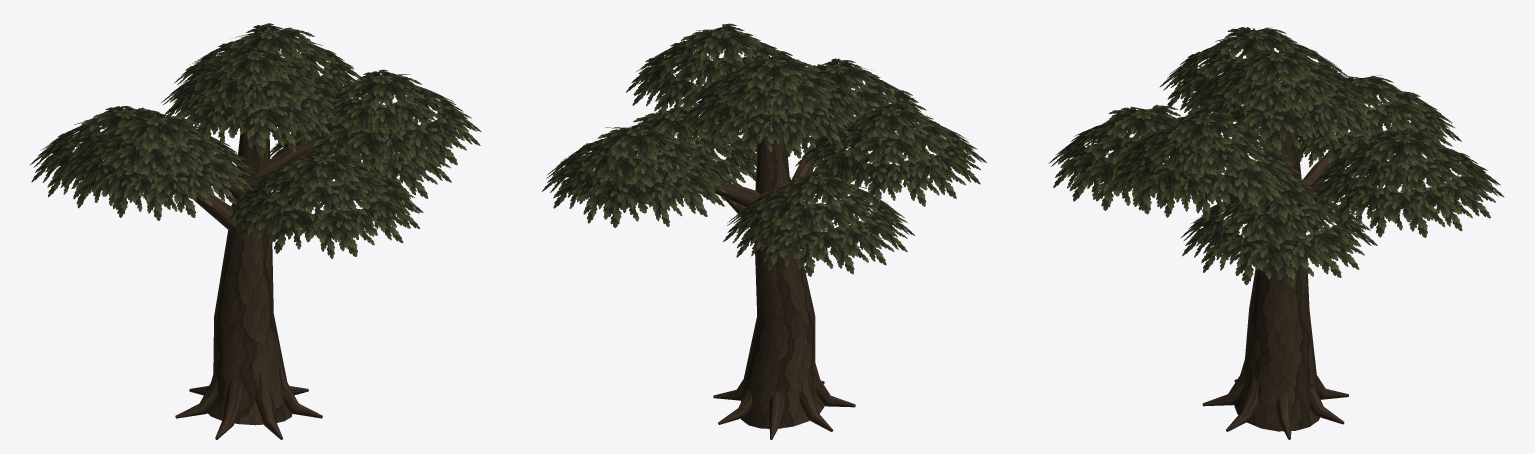
3 views of the same model, side by side, from view 1: azimuth 30°, elevation 25°; view 2: azimuth 150°, elevation 25°; view 3: azimuth 270°, elevation 25° (orthographic). The views are drawn at different scales.
Parts seen in each view (by area): view 1: Great tapering trunk, Layered oak leaf fan.078, Layered oak leaf fan.195, Layered oak leaf fan.138, Layered oak leaf fan.080, Layered oak leaf fan.168, Layered oak leaf fan.166, Layered oak leaf fan.194, Layered oak leaf fan.136, Layered oak leaf fan.196, Layered oak leaf fan.165, Layered oak leaf fan.139 (+55 smaller); view 2: Great tapering trunk, Layered oak leaf fan.103, Layered oak leaf fan.045, Layered oak leaf fan.190, Layered oak leaf fan.191, Layered oak leaf fan.105, Layered oak leaf fan.176, Layered oak leaf fan.123, Layered oak leaf fan.132, Layered oak leaf fan.046, Layered oak leaf fan.160, Layered oak leaf fan.115 (+59 smaller); view 3: Great tapering trunk, Layered oak leaf fan.200, Layered oak leaf fan.025, Layered oak leaf fan.113, Layered oak leaf fan.026, Layered oak leaf fan.172, Layered oak leaf fan.027, Layered oak leaf fan.112, Layered oak leaf fan.111, Layered oak leaf fan.115, Layered oak leaf fan.169, Layered oak leaf fan.087 (+62 smaller).
Boxes of the visible parts, <box> form: Great tapering trunk: <box>207,98,292,425</box>; Layered oak leaf fan.078: <box>251,204,320,253</box>; Layered oak leaf fan.195: <box>219,105,298,155</box>; Layered oak leaf fan.138: <box>146,169,220,217</box>; Layered oak leaf fan.080: <box>308,207,384,256</box>; Layered oak leaf fan.168: <box>409,118,466,165</box>; Layered oak leaf fan.166: <box>340,129,415,179</box>; Layered oak leaf fan.194: <box>181,100,244,144</box>; Layered oak leaf fan.136: <box>95,168,158,217</box>; Layered oak leaf fan.196: <box>250,104,317,152</box>; Layered oak leaf fan.165: <box>314,127,390,170</box>; Layered oak leaf fan.139: <box>190,159,243,204</box>; Great tapering trunk: <box>741,108,824,428</box>; Layered oak leaf fan.103: <box>579,179,656,227</box>; Layered oak leaf fan.045: <box>770,228,848,276</box>; Layered oak leaf fan.190: <box>720,110,788,158</box>; Layered oak leaf fan.191: <box>759,111,824,158</box>; Layered oak leaf fan.105: <box>661,171,716,216</box>; Layered oak leaf fan.176: <box>747,59,820,94</box>; Layered oak leaf fan.123: <box>845,135,925,171</box>; Layered oak leaf fan.132: <box>848,161,908,208</box>; Layered oak leaf fan.046: <box>809,227,876,274</box>; Layered oak leaf fan.160: <box>646,74,696,120</box>; Layered oak leaf fan.115: <box>552,164,596,208</box>; Great tapering trunk: <box>1234,100,1319,431</box>; Layered oak leaf fan.200: <box>1240,107,1315,154</box>; Layered oak leaf fan.025: <box>1212,234,1289,284</box>; Layered oak leaf fan.113: <box>1380,189,1456,237</box>; Layered oak leaf fan.026: <box>1247,236,1326,286</box>; Layered oak leaf fan.172: <box>1211,166,1278,213</box>; Layered oak leaf fan.027: <box>1291,230,1356,277</box>; Layered oak leaf fan.112: <box>1347,187,1419,237</box>; Layered oak leaf fan.111: <box>1323,179,1381,227</box>; Layered oak leaf fan.115: <box>1443,173,1495,218</box>; Layered oak leaf fan.169: <box>1127,162,1180,210</box>; Layered oak leaf fan.087: <box>1365,137,1442,175</box>.
Bounding box in the file's own units: 44.11 × 37.19 × 45.43.
3 materials, 2 textured.
